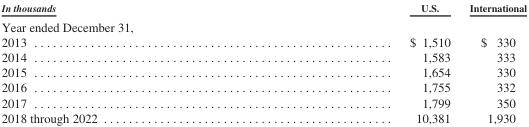table: (0, 1, 526, 124)
table column: (0, 1, 252, 124), (252, 1, 459, 124), (459, 1, 526, 124)
table column header: (0, 1, 526, 16)
table projected row header: (0, 16, 526, 34)
table row: (0, 16, 526, 34), (0, 1, 526, 16), (0, 34, 526, 49), (0, 49, 526, 64), (0, 64, 526, 79), (0, 79, 526, 94), (0, 94, 526, 109), (0, 109, 526, 124)
